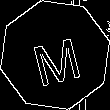M_N: (26, 25, 84, 85)
